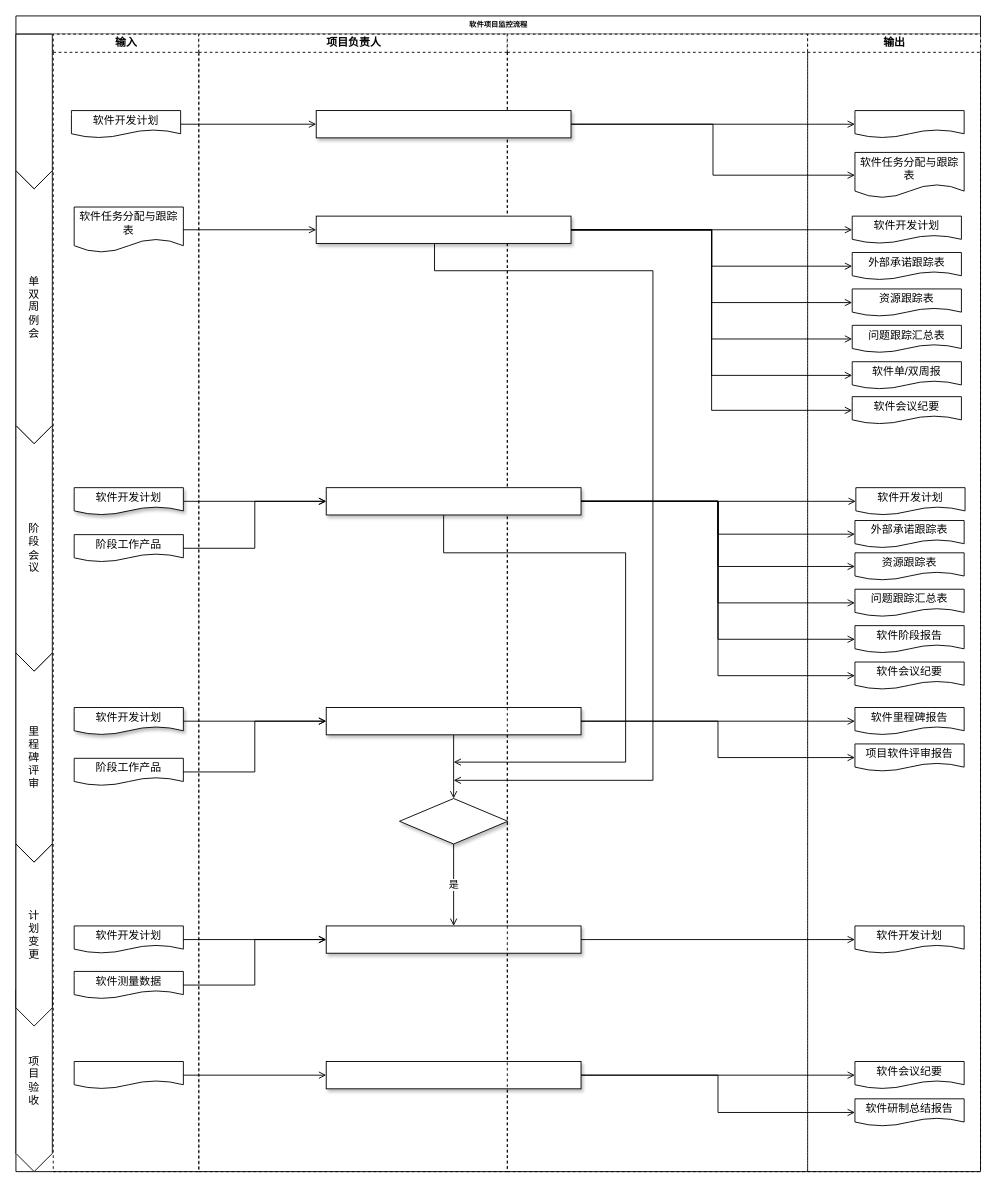
This 996x1188 diagram has some shape labels left out. The shapes that lost their labels are listed below. From the top down, each one's centre as x and y in pixels, then its label:
At point (33, 111): "任 务 分 配 与 跟 踪".
At point (444, 125): "任务分配与跟踪".
At point (909, 124): "个人单/双周报".
At point (444, 231): "召开单/双周例会".
At point (454, 502): "召开阶段会议".
At point (657, 602): "相关人员".
At point (454, 722): "里程碑评审".
At point (454, 822): "触发计划变更".
At point (454, 940): "计划变更".
At point (128, 1075): "项目软件执行情况".
At point (454, 1076): "项目软件验收交付".
